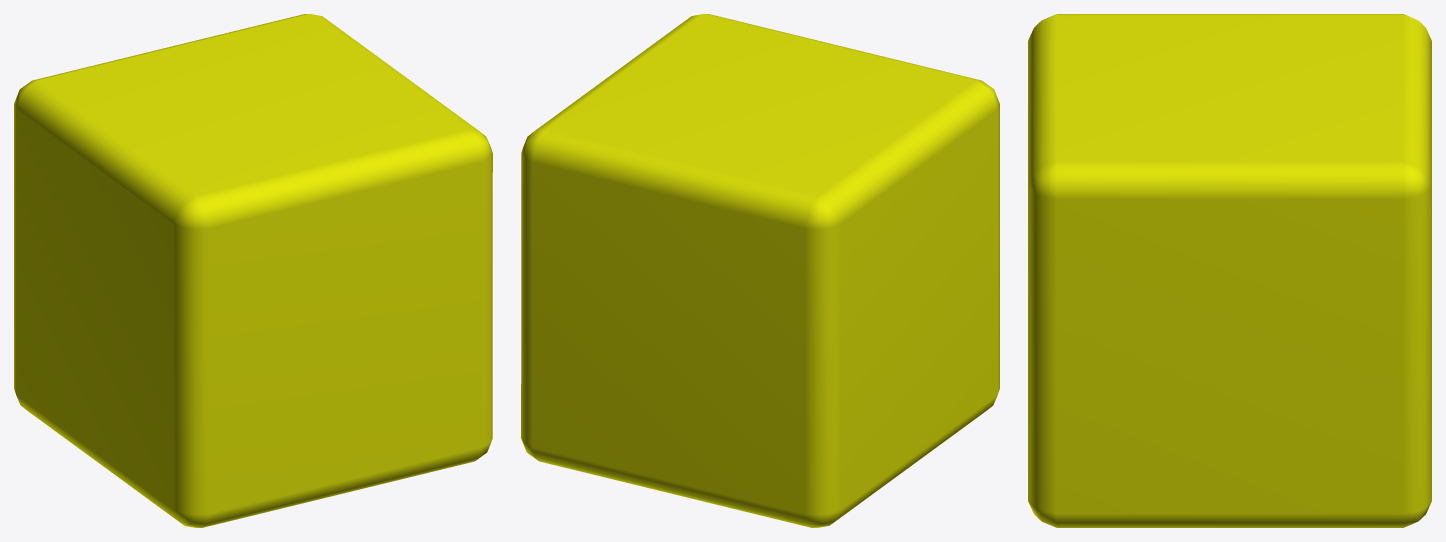
File: Block.fbx
3 views of the same model, side by side, from view 1: azimuth 30°, elevation 25°; view 2: azimuth 150°, elevation 25°; view 3: azimuth 270°, elevation 25° (orthographic). The views are drawn at different scales.
Visible parts, largest first — view 1: pCube86; view 2: pCube86; view 3: pCube86.
Part boxes in pixels (x1,y1,x2,y2): pCube86: [14, 14, 492, 527]; pCube86: [521, 14, 999, 527]; pCube86: [1028, 14, 1431, 527].
Bounding box in the file's own units: 5.44 × 5.44 × 5.44.
